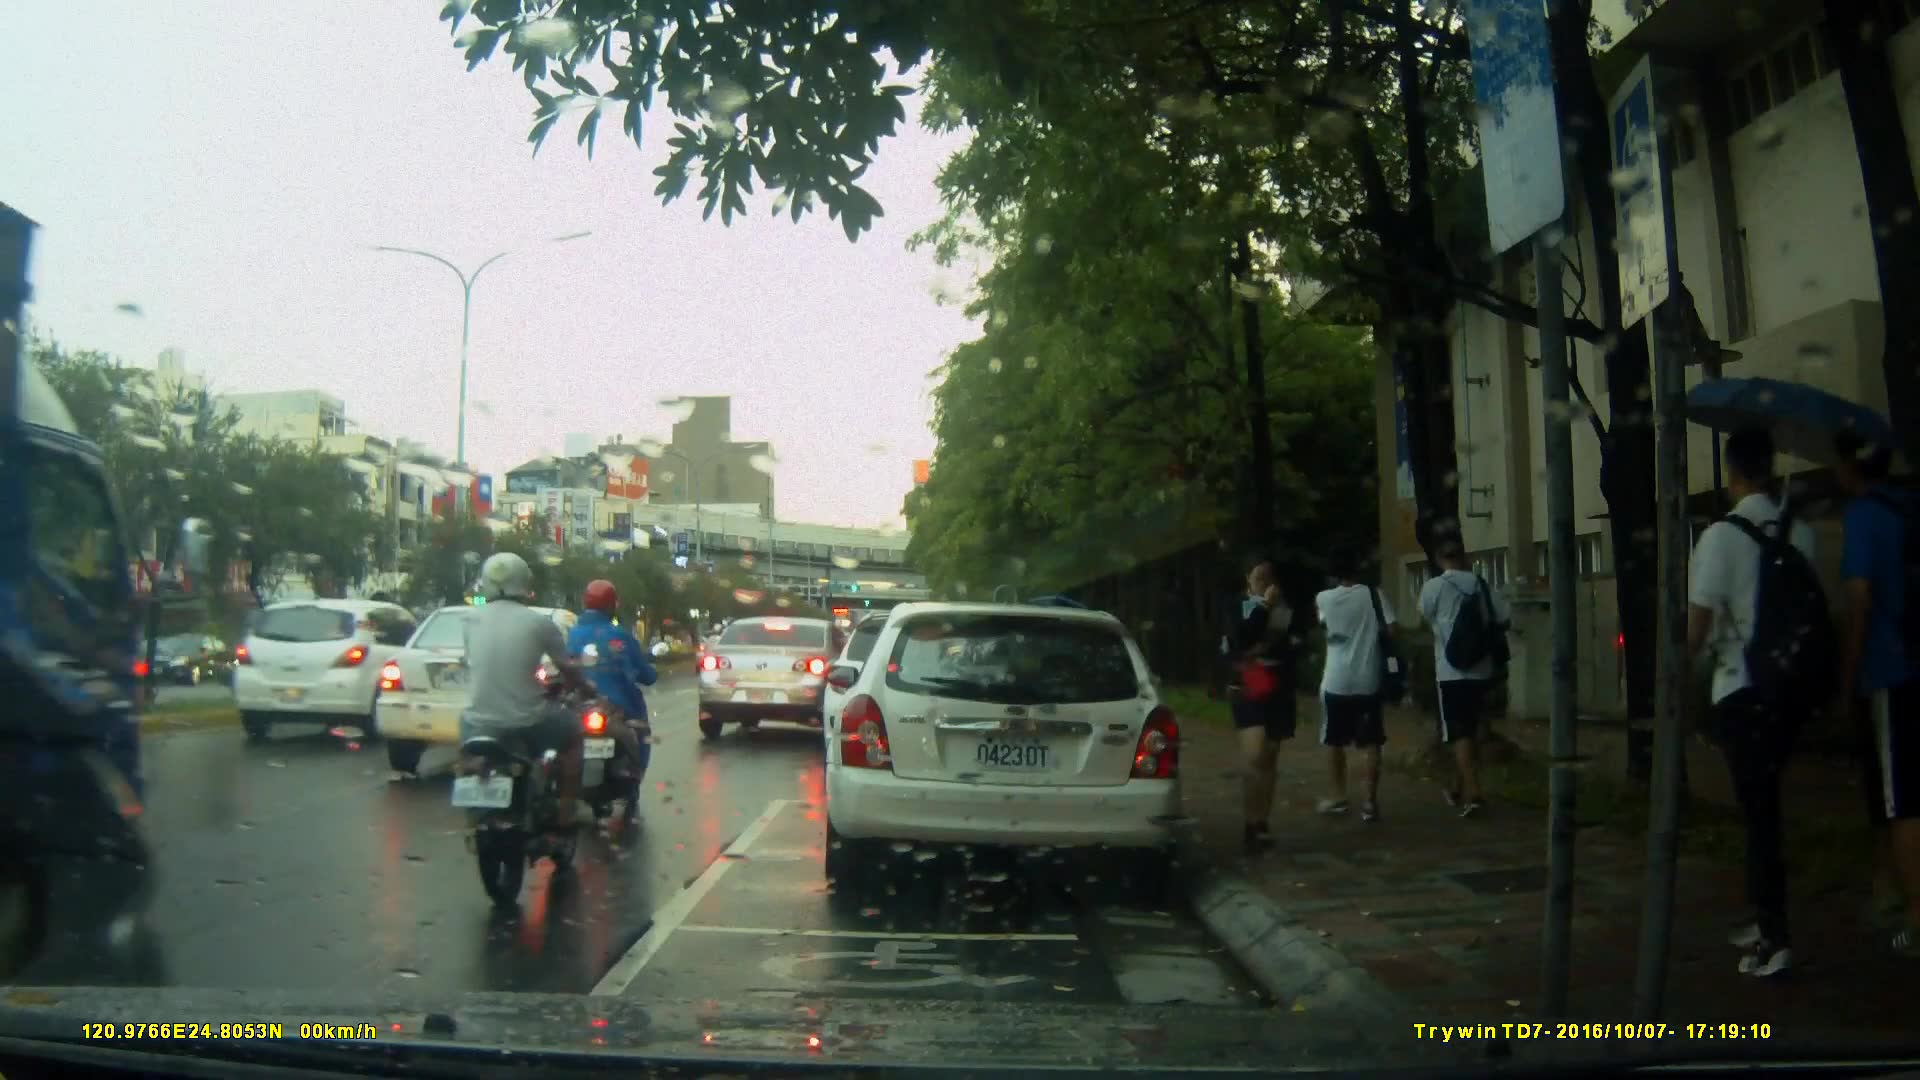pedestrian: (1661, 417, 1811, 969), (1799, 408, 1918, 960), (1406, 518, 1508, 831), (1227, 559, 1320, 858), (1296, 551, 1384, 828)
rider: (460, 549, 591, 891), (559, 581, 670, 813)
vehicle: (820, 602, 1188, 898), (364, 603, 640, 785), (230, 597, 449, 749), (693, 614, 880, 743)
